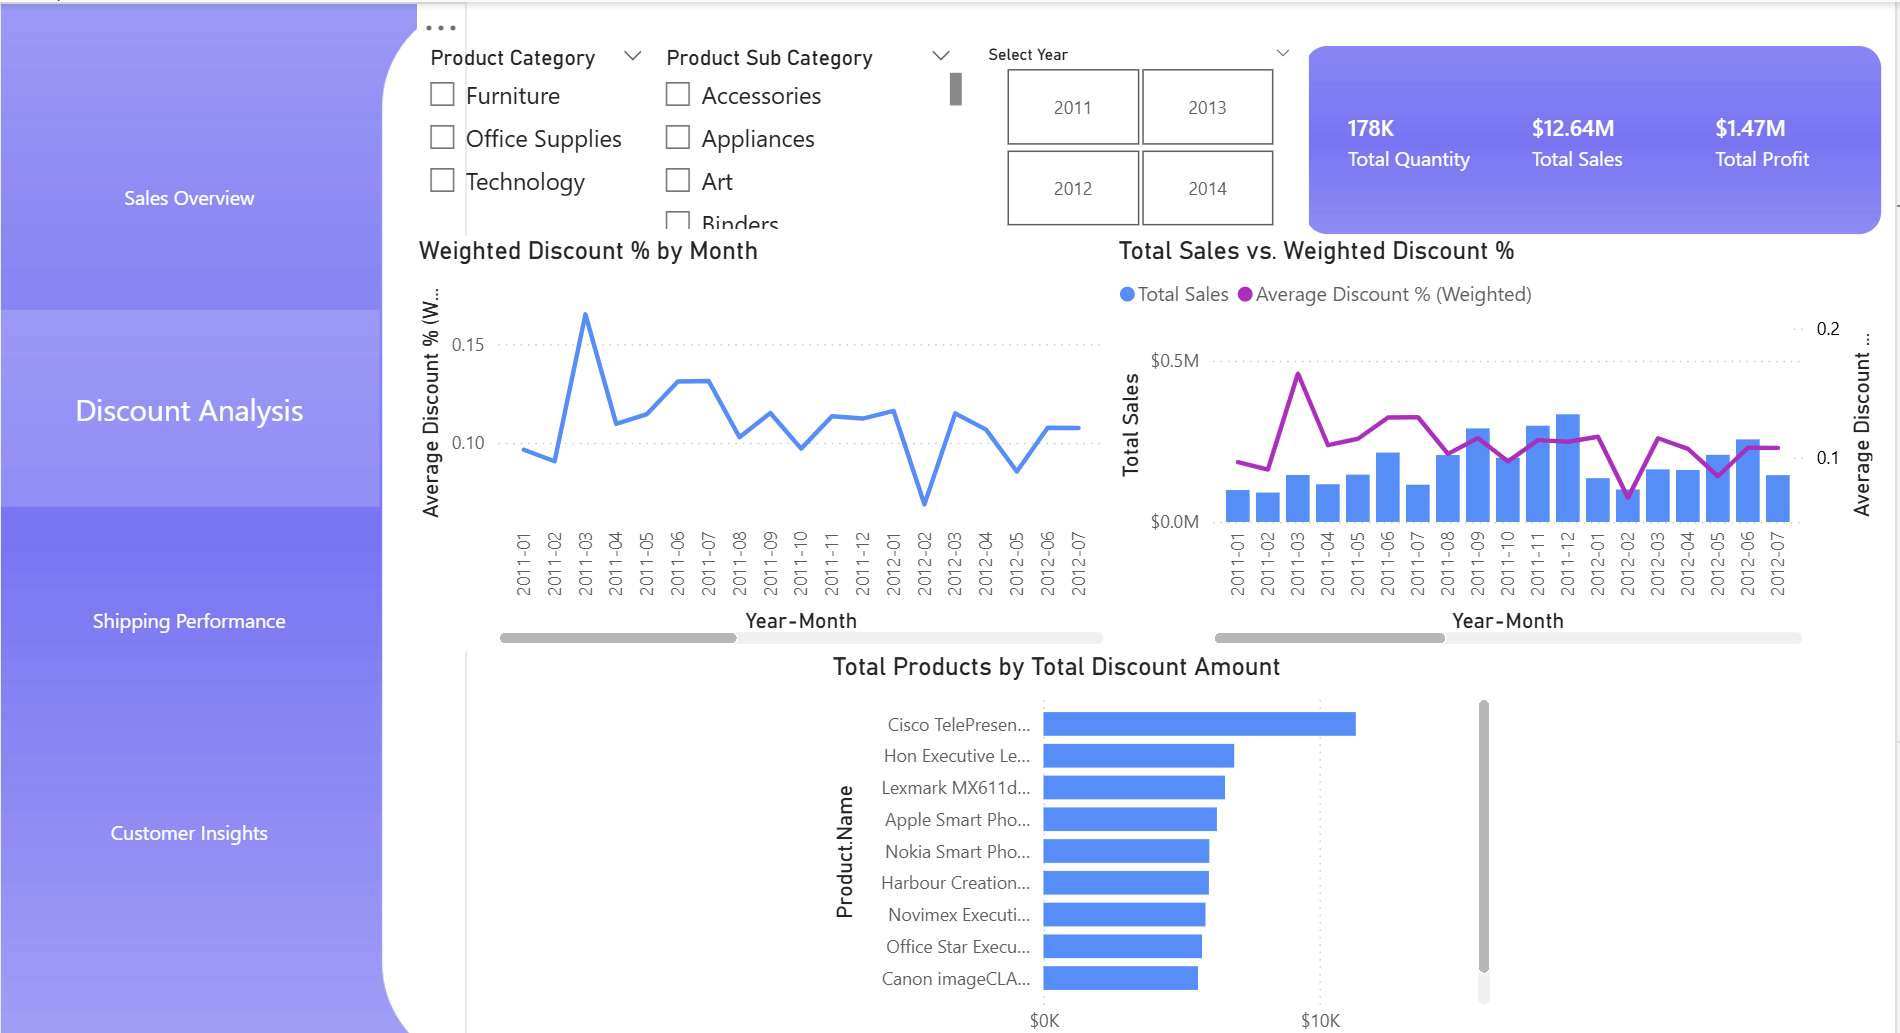

The page's visual inventory and layout, read from the dashboard file:
{"tool":"powerbi","page":{"name":"Discount Analysis","canvas":[1280,720],"ordinal":1},"visuals":[{"type":"image","box":[0,0,315.4,719.6],"z":0},{"type":"image","box":[881.1,30,388.8,126.8],"z":1000},{"type":"pageNavigator","box":[0,64.3,257.2,565],"z":2000},{"type":"slicer","fields":{"Values":["superstore.Category"]},"box":[278.3,24.1,168.7,133.7],"z":3000},{"type":"slicer","fields":{"Values":["superstore.Sub.Category"]},"box":[437.5,24.3,217.4,133.7],"z":4000},{"type":"slicer","title":"Select Year","fields":{"Values":["DateTable.Year"]},"box":[654.9,24.3,229.5,133.7],"z":5000},{"type":"cardVisual","fields":{"Data":["superstore.Total Quantity","superstore.Total Sales","superstore.Total Profit"]},"box":[881.1,31.7,398.9,126.8],"z":6000},{"type":"lineChart","title":"Weighted Discount % by Month","fields":{"Y":["superstore.Average Discount % (Weighted)"],"Category":["DateTable.Year-Month"]},"box":[278.7,158.5,472.3,280.4],"z":7000},{"type":"lineClusteredColumnComboChart","title":"Total Sales vs. Weighted Discount %","fields":{"Category":["DateTable.Year-Month"],"Y":["superstore.Total Sales"],"Y2":["superstore.Average Discount % (Weighted)"]},"box":[751,158.5,519,280.4],"z":8000},{"type":"clusteredBarChart","title":"Total Products by Total Discount Amount","fields":{"Y":["superstore.Total Discount Amount"],"Category":["superstore.Product.Name"]},"box":[557.4,438.9,453.9,280.4],"z":9000}]}

Visuals, with their boxes on the page's 1280x720 design canvas (x1, y1, x2, y2). These are canvas units, not pixel positions in the 1900x1033 screenshot, which may show the page scaled, cropped or inside an application window:
image: x1=0, y1=0, x2=315, y2=720
image: x1=881, y1=30, x2=1270, y2=157
pageNavigator: x1=0, y1=64, x2=257, y2=629
slicer - superstore.Category: x1=278, y1=24, x2=447, y2=158
slicer - superstore.Sub.Category: x1=438, y1=24, x2=655, y2=158
"Select Year" slicer: x1=655, y1=24, x2=884, y2=158
cardVisual - superstore.Total Quantity x superstore.Total Sales: x1=881, y1=32, x2=1280, y2=158
"Weighted Discount % by Month" lineChart: x1=279, y1=158, x2=751, y2=439
"Total Sales vs. Weighted Discount %" lineClusteredColumnComboChart: x1=751, y1=158, x2=1270, y2=439
"Total Products by Total Discount Amount" clusteredBarChart: x1=557, y1=439, x2=1011, y2=719
